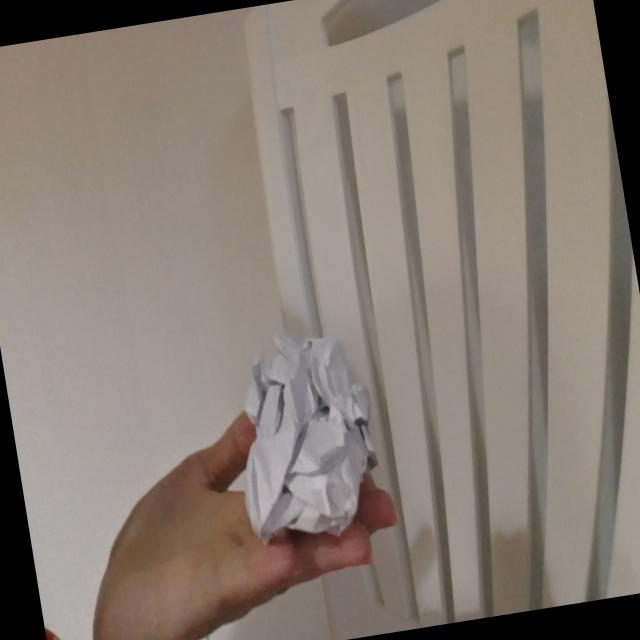crumpled_paper: (217, 314, 393, 557)
